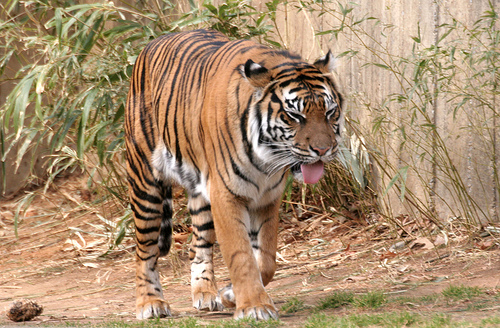Tigre: (96, 17, 377, 320)
